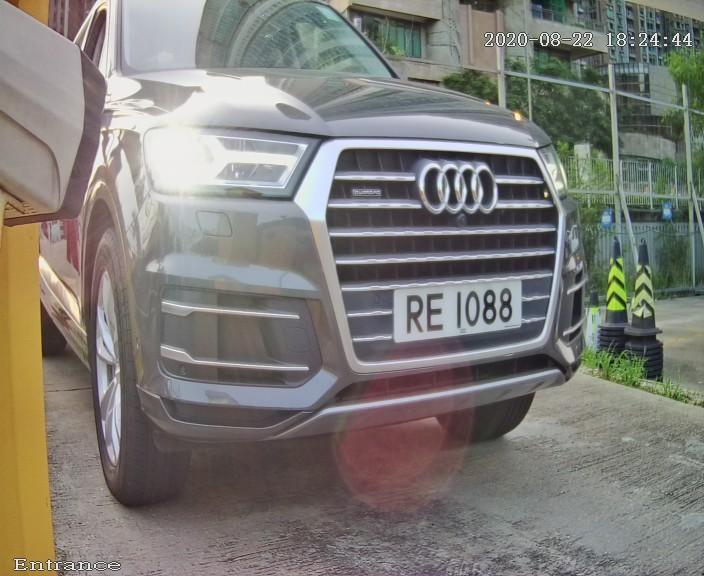Car: (32, 1, 617, 507)
License Plate: (381, 263, 532, 353)
